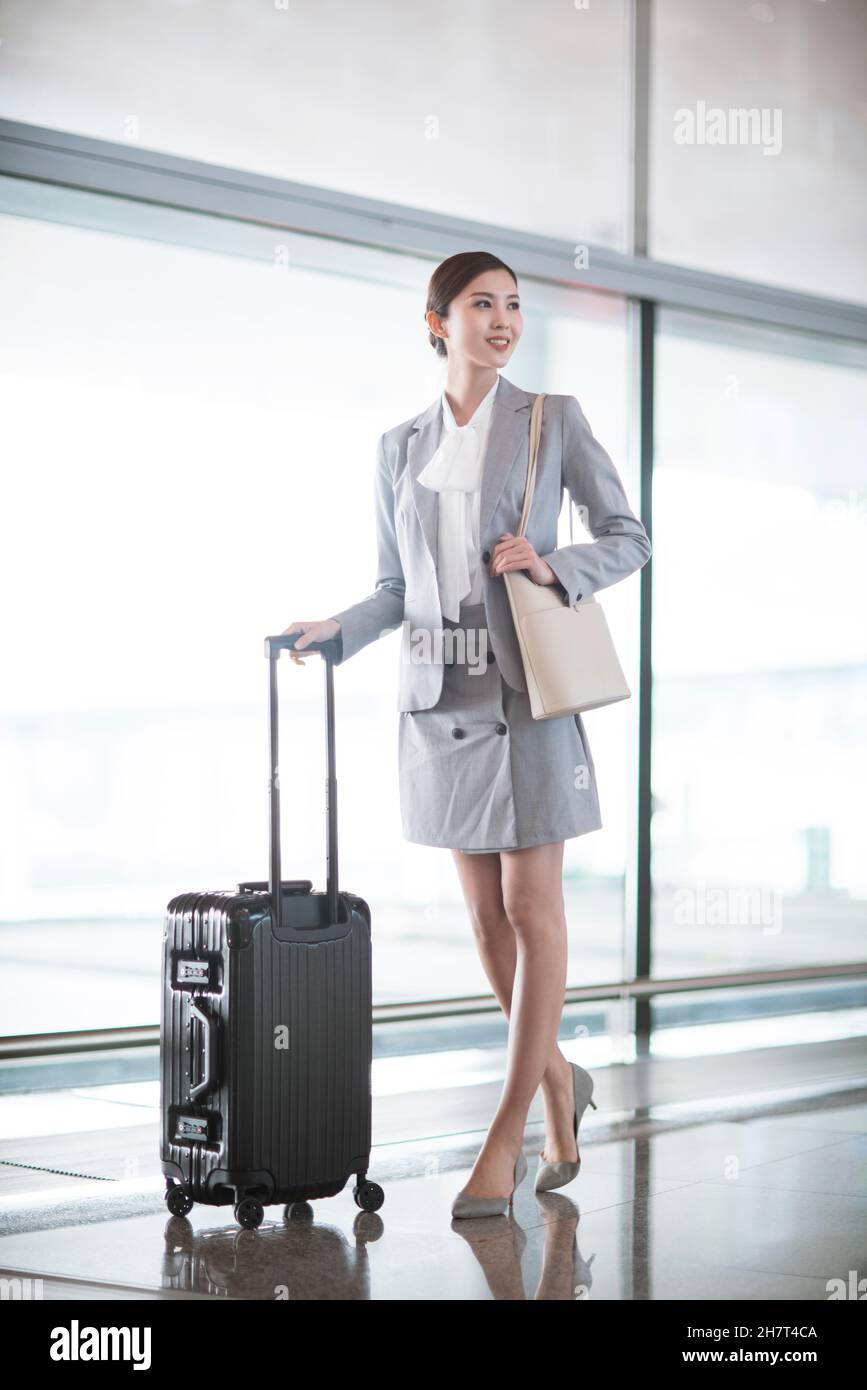person: (291, 250, 653, 1212)
